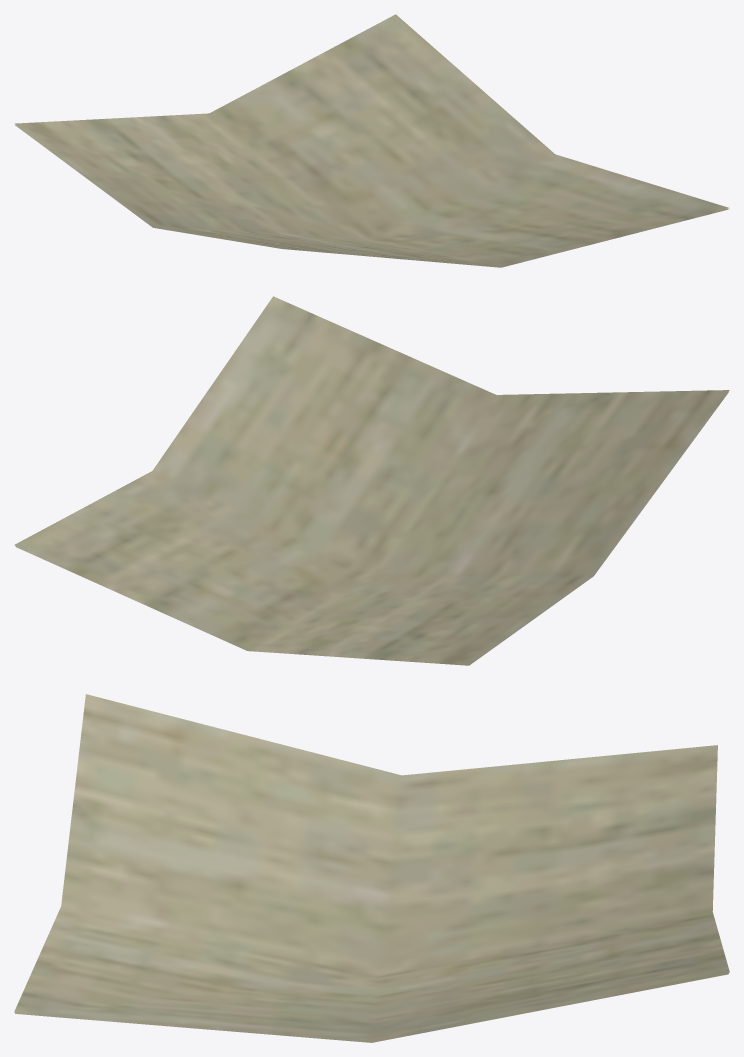
File: poi_corl_tent_small_l3.fbx
3 views of the same model, one above another, from view 1: azimuth 30°, elevation 25°; view 2: azimuth 150°, elevation 25°; view 3: azimuth 270°, elevation 25° (orthographic). The views are drawn at different scales.
Visible parts, largest first — view 1: mesh_node; view 2: mesh_node; view 3: mesh_node.
Part boxes in pixels (left/top/right/bottom): mesh_node: left=14, top=14, right=729, bottom=267; mesh_node: left=14, top=296, right=729, bottom=665; mesh_node: left=14, top=694, right=729, bottom=1042.
Bounding box in the file's own units: 4.8 × 1.31 × 5.24.
1 material, 1 textured.
